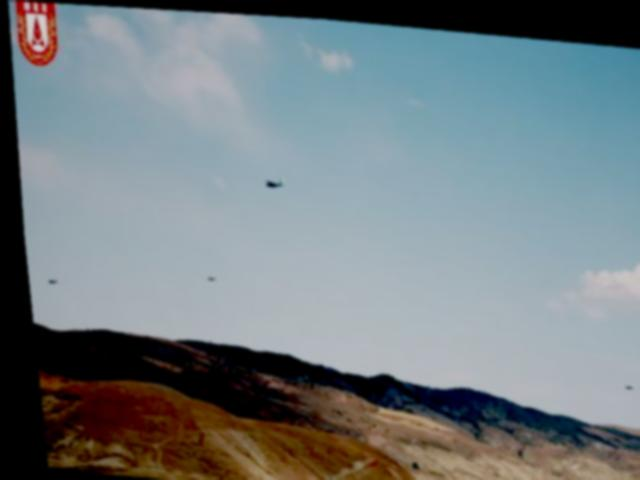uav: (260, 173, 284, 188), (613, 375, 631, 384), (39, 276, 55, 285), (200, 272, 213, 282)
